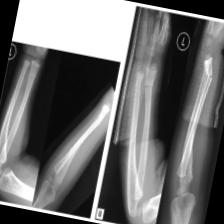greenstick-fracture: (94, 5, 224, 224), (0, 42, 120, 218)
